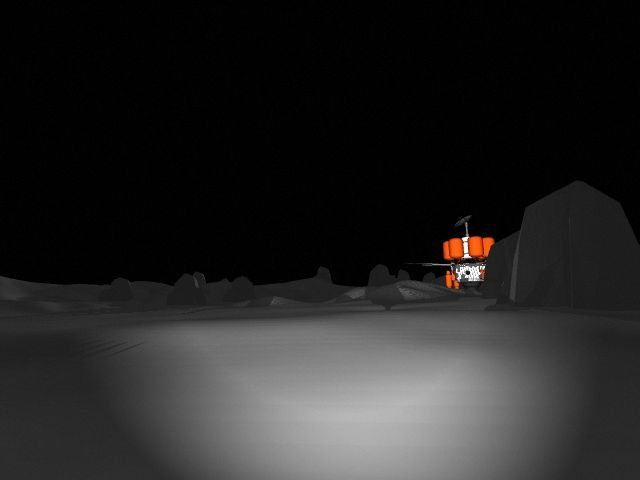homebase: (399, 213, 541, 295)
